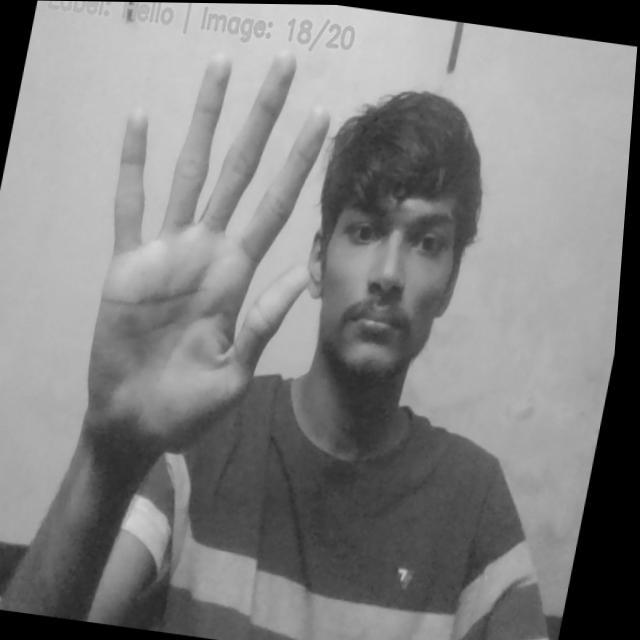Hello: (66, 30, 358, 468)
